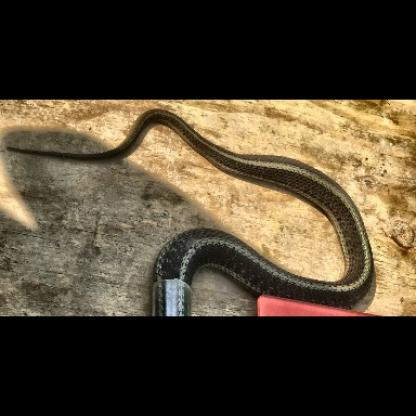Snake: (97, 106, 379, 318)
